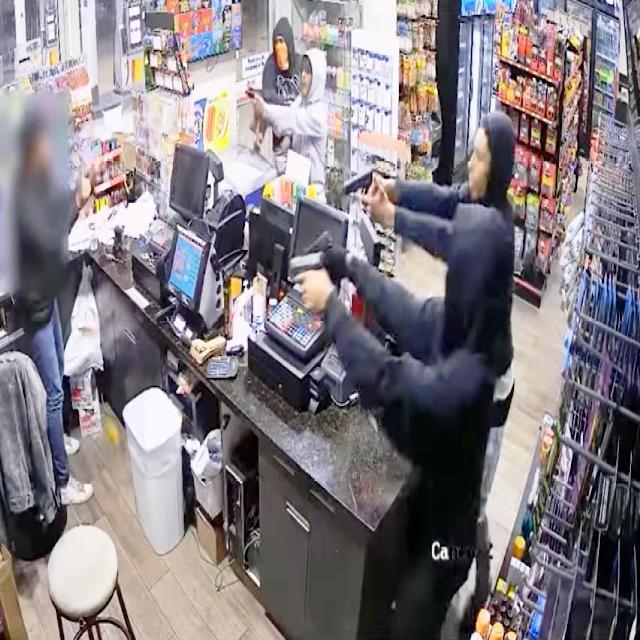Gun: (276, 238, 348, 301), (338, 150, 388, 198)
